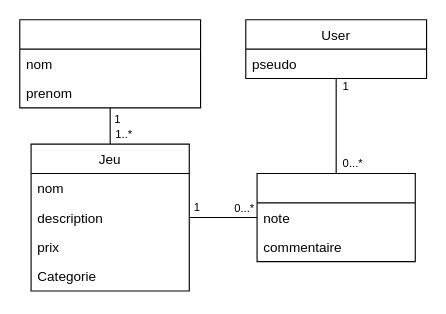
Some shapes in this 446 by 314 pixel diagram are drawn without their labels. Each missing label, with the box of its shape:
Auteur: (19, 19, 201, 108)
Avis: (256, 172, 415, 262)
